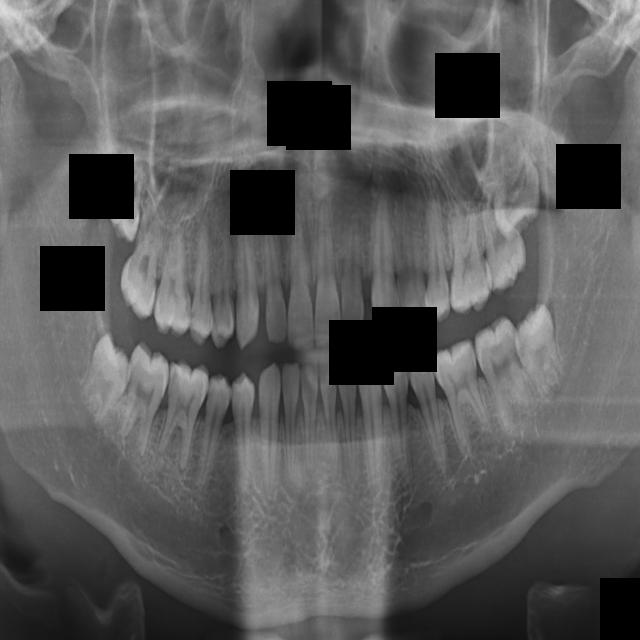3M ESPE Implant: (100, 147, 153, 245)
AGS Medikal Implant: (335, 202, 369, 340)
AMerOss Implant: (367, 159, 399, 342)
Amalgam filling: (389, 170, 430, 336)
Anthogyr Implant: (420, 179, 453, 327)
Bicon Implant: (445, 185, 488, 319)
BioHorizons Implant: (477, 168, 532, 304)
BioLife Implant: (481, 136, 558, 235)
Biomet 3i Implant: (553, 377, 554, 378)
Blue Sky Bio Implant: (470, 313, 543, 453)
Camlog Implant: (428, 329, 500, 460)
Caries: (116, 201, 162, 325)
Composite filling: (405, 346, 454, 486)
Cowellmedi Implant: (378, 348, 421, 488)
Crown: (355, 343, 388, 508)
DENTSPLY Implant: (337, 355, 366, 501)
Dentatus Implant: (318, 358, 346, 490)
Dentis Implant: (299, 360, 319, 487)
Dentium Implant: (282, 362, 302, 487)
Euroteknika Implant: (260, 361, 281, 513)
Filling: (229, 371, 257, 511)
Frontier Implant: (190, 370, 236, 508)
Hiossen Implant: (150, 181, 196, 344)
Implant: (105, 338, 176, 476)
Implant Direct: (150, 357, 212, 482)
Keystone Dental Implant: (67, 322, 141, 439)
MIS Implant: (187, 196, 220, 350)
Mandible: (207, 211, 245, 355)
Maxilla: (235, 182, 261, 352)
Megagen Implant: (256, 195, 289, 344)
Neodent Implant: (283, 192, 323, 355)
Neoss Implant: (314, 186, 342, 350)
